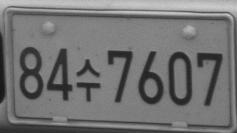0: (167, 50, 192, 105)
4: (46, 47, 72, 100)
6: (137, 50, 164, 104)
7: (196, 51, 223, 107), (107, 49, 133, 103)
8: (18, 46, 44, 100)
수: (75, 58, 100, 102)
